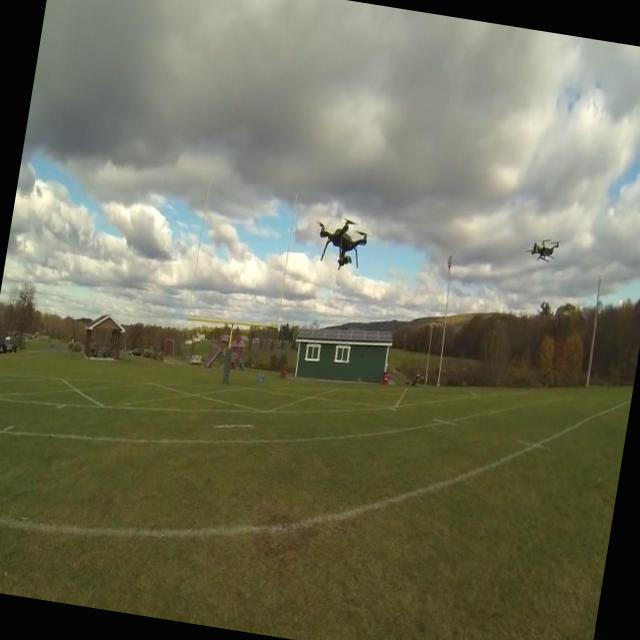drone: (312, 210, 372, 275), (524, 236, 561, 268)
